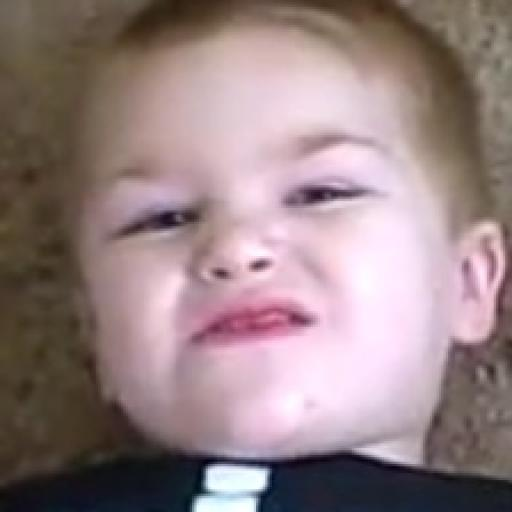Autism: (44, 13, 499, 465)
